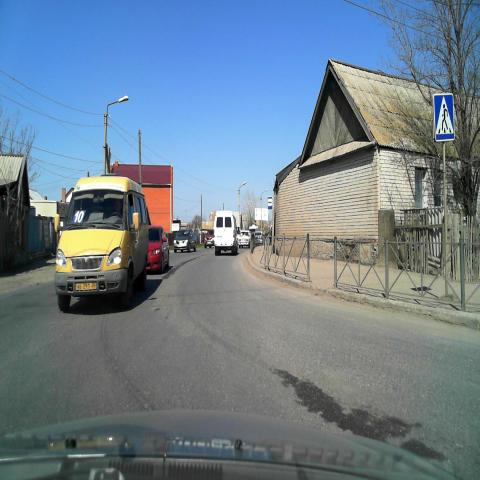5_16: (268, 196, 272, 210)
5_19_1: (434, 94, 453, 142)
